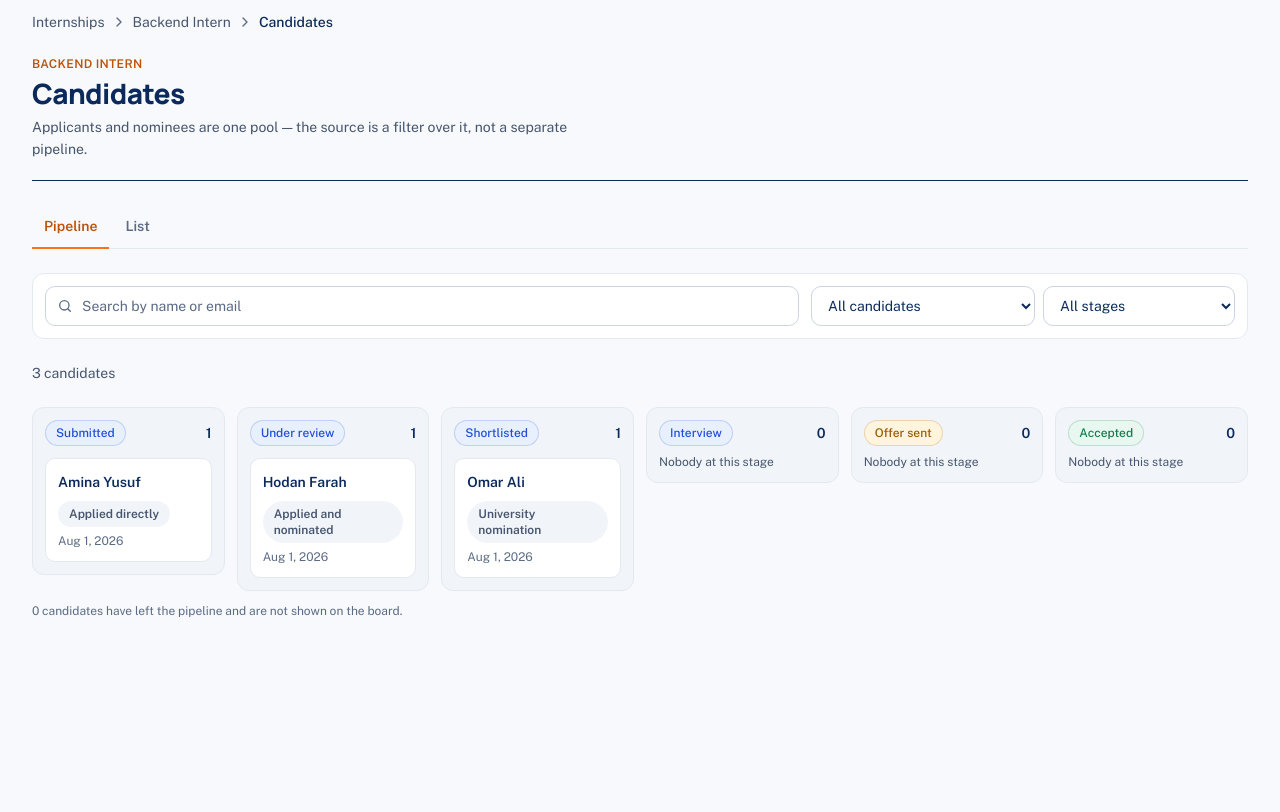
Test: CandidatePoolPage › renders each candidacy source on its row in the list view
Check: the text "Hodan Farah" is shown, box [263, 474, 347, 490]
Click the tab "List" at (138, 227), box [113, 205, 162, 249]
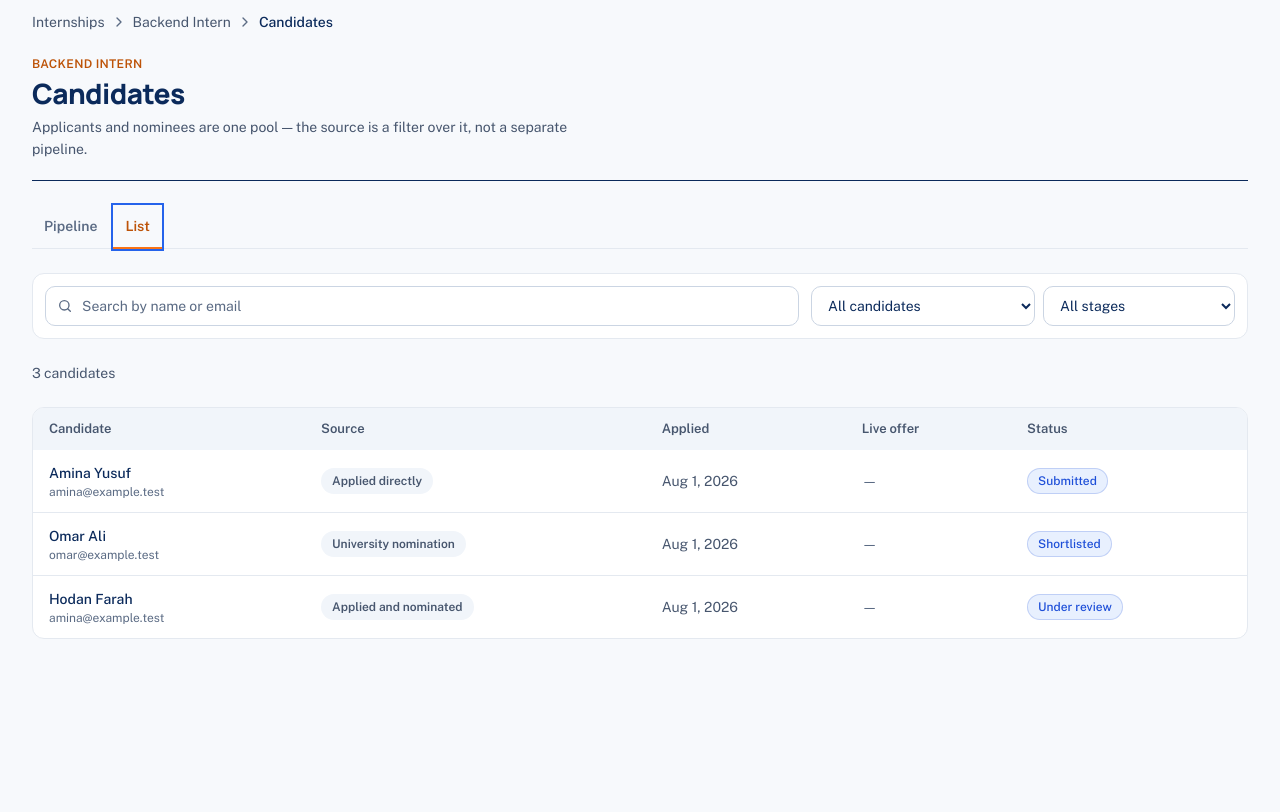
Check: the number of rows is 4, box [33, 408, 1247, 450]; [33, 450, 1247, 513]; [33, 513, 1247, 576]; [33, 576, 1247, 638]
Check: the row that starts with "Amina Yusuf" shows "Applied directly", box [332, 474, 422, 488]
Check: the row that starts with "Omar Ali" shows "University nomination", box [332, 537, 455, 551]
